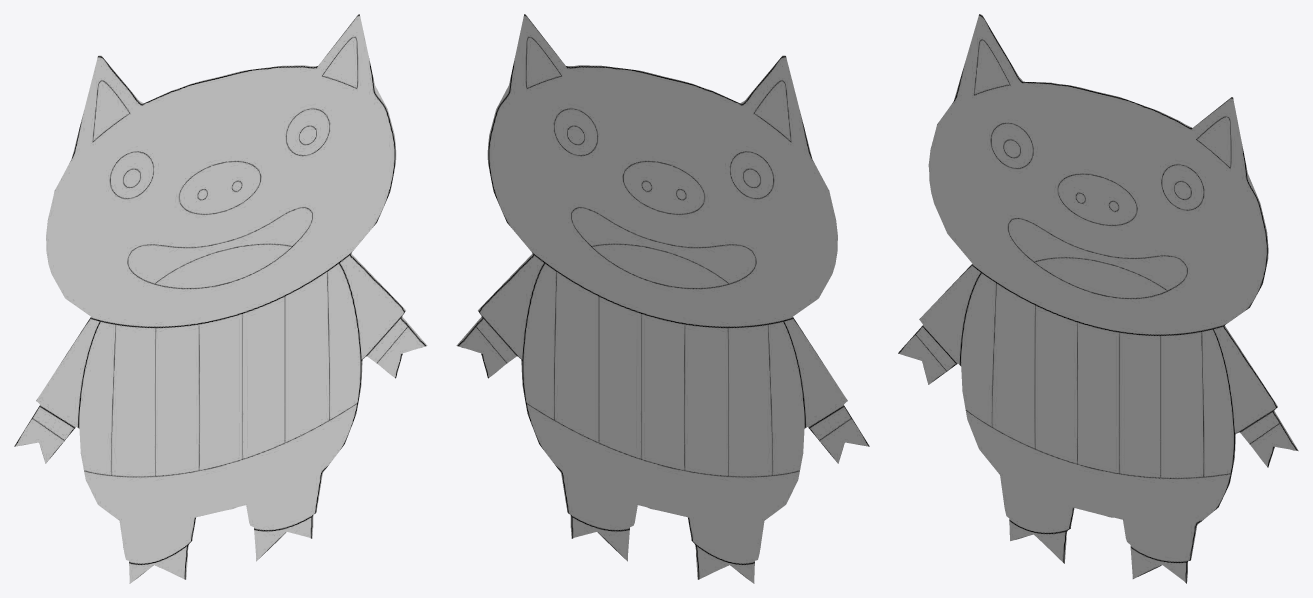
File: 23_popo-01_fix.fbx
3 renders of one model, left to right at view 1: azimuth 30°, elevation 25°; view 2: azimuth 150°, elevation 25°; view 3: azimuth 330°, elevation 25°, orthographic. The views are drawn at different scales.
Parts seen in each view (by area): view 1: planarTrimmedSurface15; view 2: planarTrimmedSurface15; view 3: planarTrimmedSurface15.
Part boxes in pixels (x1=…): planarTrimmedSurface15: x1=14, y1=14, x2=427, y2=583; planarTrimmedSurface15: x1=456, y1=14, x2=869, y2=583; planarTrimmedSurface15: x1=898, y1=14, x2=1298, y2=583.
Bounding box in the file's own units: 9.24 × 11.64 × 1.9e-06.
Materials: 1 (1 with a texture image).
